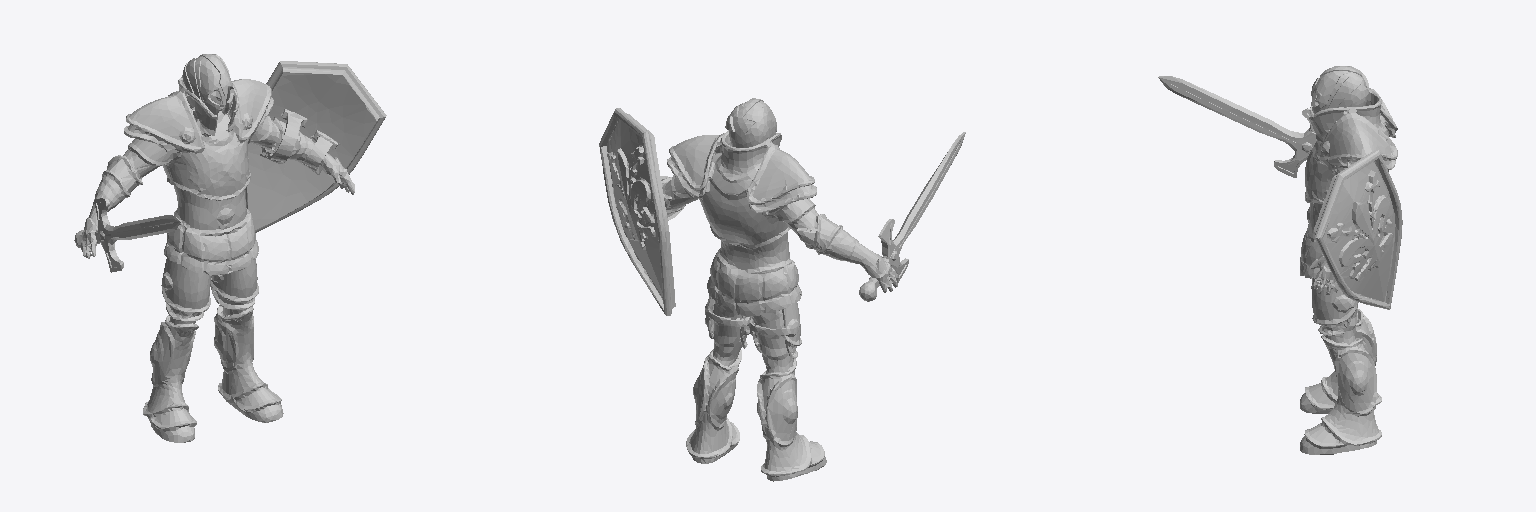
File: armour.obj
The picture shows the model from 3 angles: view 1: azimuth 30°, elevation 25°; view 2: azimuth 150°, elevation 25°; view 3: azimuth 270°, elevation 25°; orthographic projection.
Size of the model in its own units: 4.82 by 5.59 by 3.42.